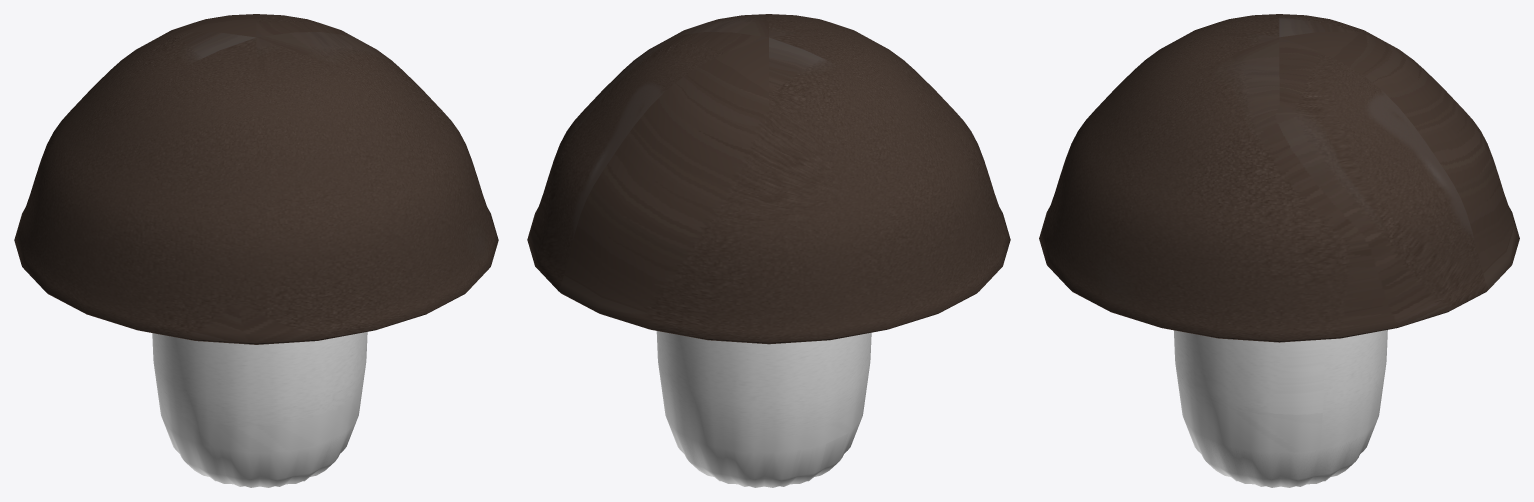
The model's file is Mushroom.fbx.
3 renders of one model, left to right at view 1: azimuth 30°, elevation 25°; view 2: azimuth 150°, elevation 25°; view 3: azimuth 270°, elevation 25°, orthographic.
Parts seen in each view (by area): view 1: Mushroom; view 2: Mushroom; view 3: Mushroom.
Part boxes in pixels (left/top/right/bottom): Mushroom: left=14, top=14, right=498, bottom=487; Mushroom: left=527, top=14, right=1010, bottom=487; Mushroom: left=1039, top=14, right=1519, bottom=487.
Bounding box in the file's own units: 4.24 × 4.11 × 4.21.
Materials: 1 (1 with a texture image).
